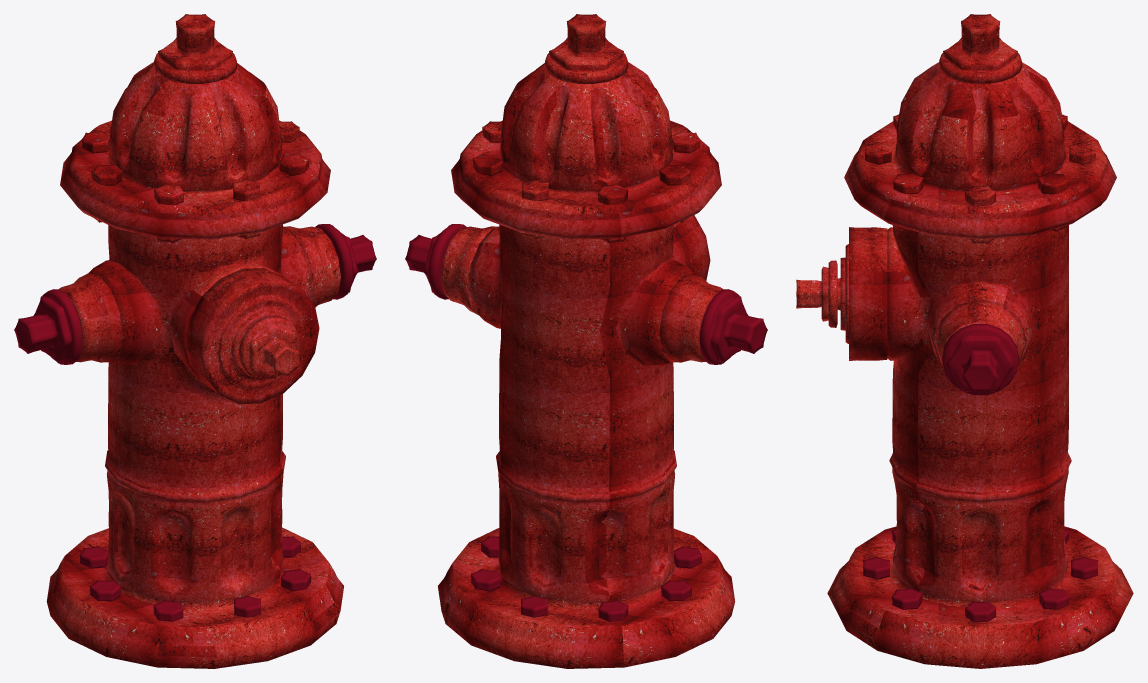
Rendered from hidrante.fbx.
The picture shows the model from 3 angles, left to right: view 1: azimuth 30°, elevation 25°; view 2: azimuth 150°, elevation 25°; view 3: azimuth 270°, elevation 25°; orthographic projection.
Visible parts, largest first — view 1: Hidrante; view 2: Hidrante; view 3: Hidrante.
Part boxes in pixels (x1,y1,x2,y2): Hidrante: (14, 14, 376, 668); Hidrante: (405, 14, 767, 668); Hidrante: (796, 14, 1133, 668).
Size of the model in its own units: 1.52 by 2.47 by 1.29.
